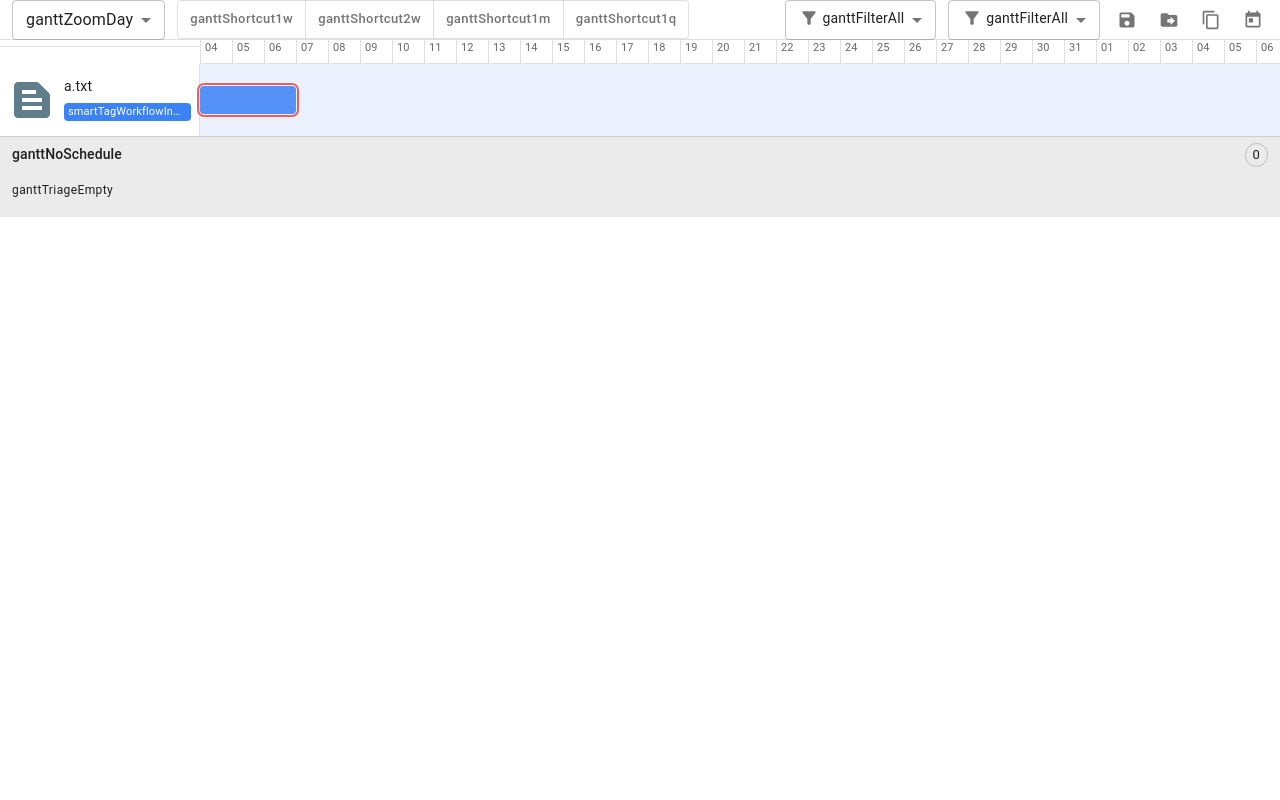
Test: GanttView #12: left-click taskbar pops the period dialog › anchors the dialog near the click point instead of centering it
Press the mouse on the element named "ganttOverdue" at (248, 100), box top-left (200, 86), bottom-right (296, 114)
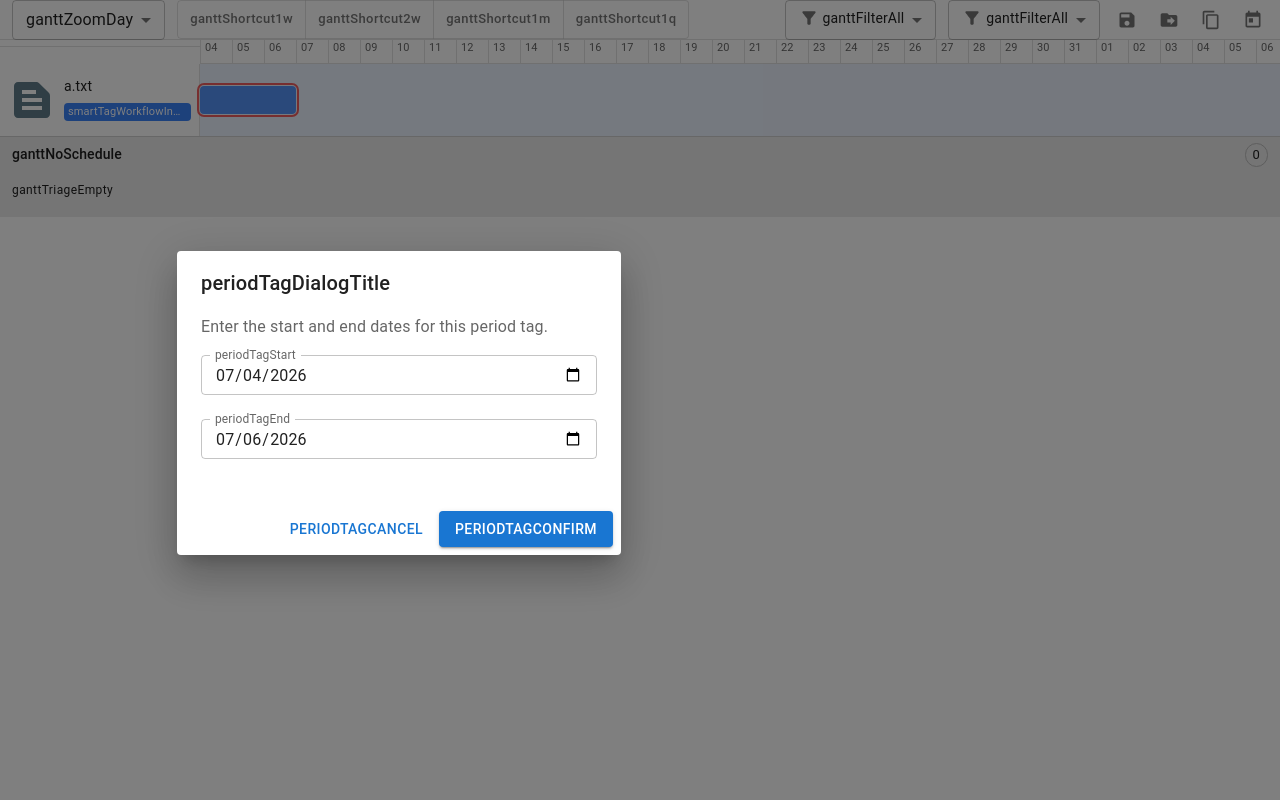
expect the element with test id "period-tag-dialog" is shown: met
expect the dialog is shown: met, box top-left (177, 251), bottom-right (621, 555)
